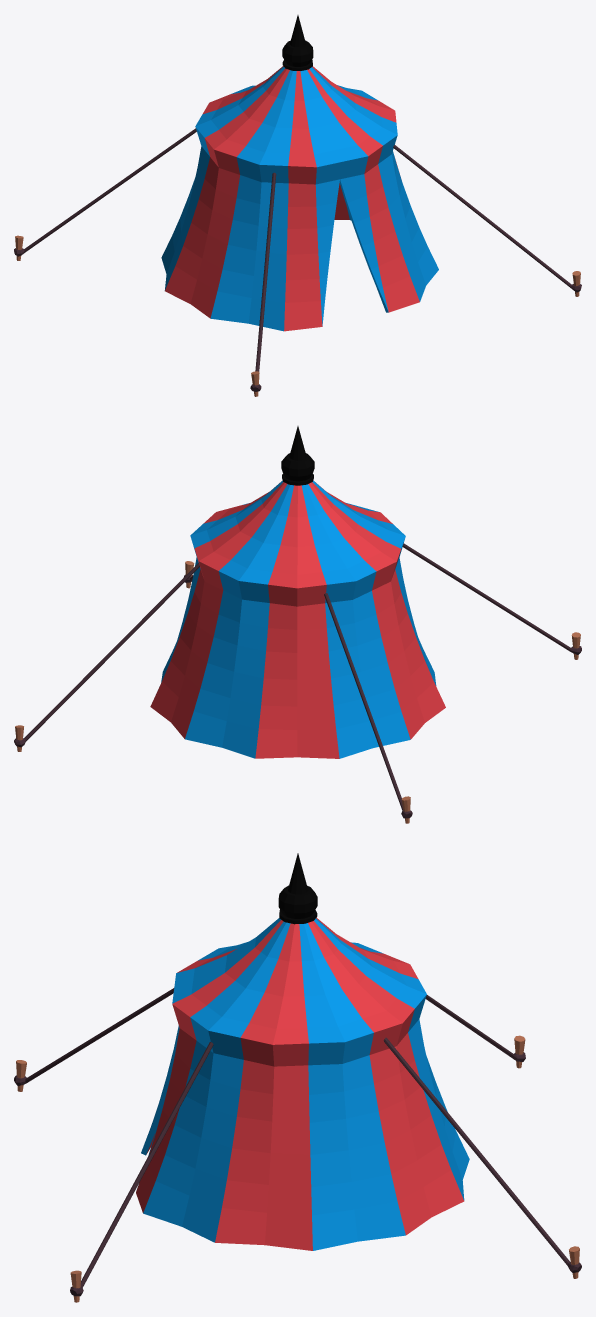
The model's file is Teent_01.fbx.
3 views of the same model, one above another, from view 1: azimuth 30°, elevation 25°; view 2: azimuth 150°, elevation 25°; view 3: azimuth 270°, elevation 25° (orthographic). The views are drawn at different scales.
Visible parts, largest first — view 1: Teent_01; view 2: Teent_01; view 3: Teent_01.
Boxes of the visible parts, x1,y1,x2,y2 form: Teent_01: (14,15,581,396); Teent_01: (14,426,581,823); Teent_01: (14,853,581,1302).
Bounding box in the file's own units: 899 × 581 × 900.
